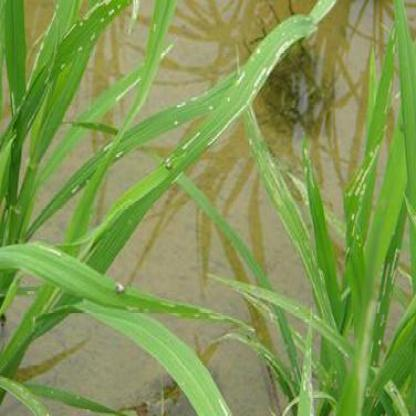rice-bug: (163, 152, 174, 172), (116, 282, 128, 296)
